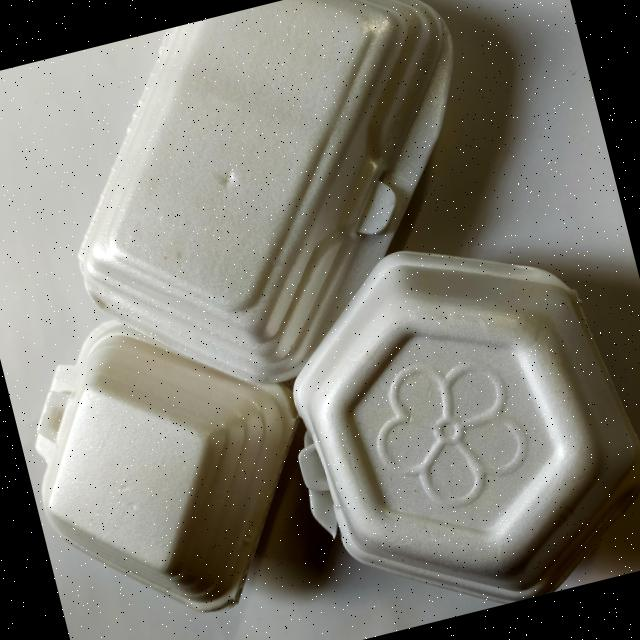styrofoam: (0, 0, 574, 640), (253, 202, 640, 640), (2, 279, 340, 640)
